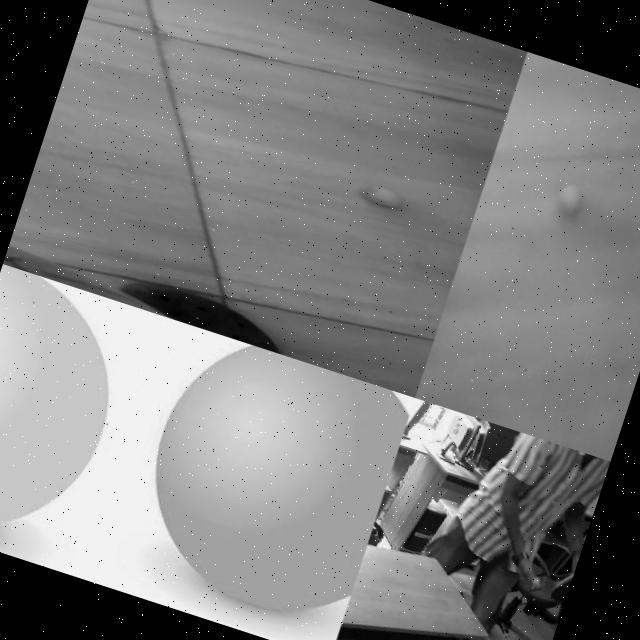ping-pong-ball: (119, 326, 414, 633), (0, 262, 142, 562), (552, 179, 588, 220), (360, 183, 405, 213), (532, 575, 542, 586)
